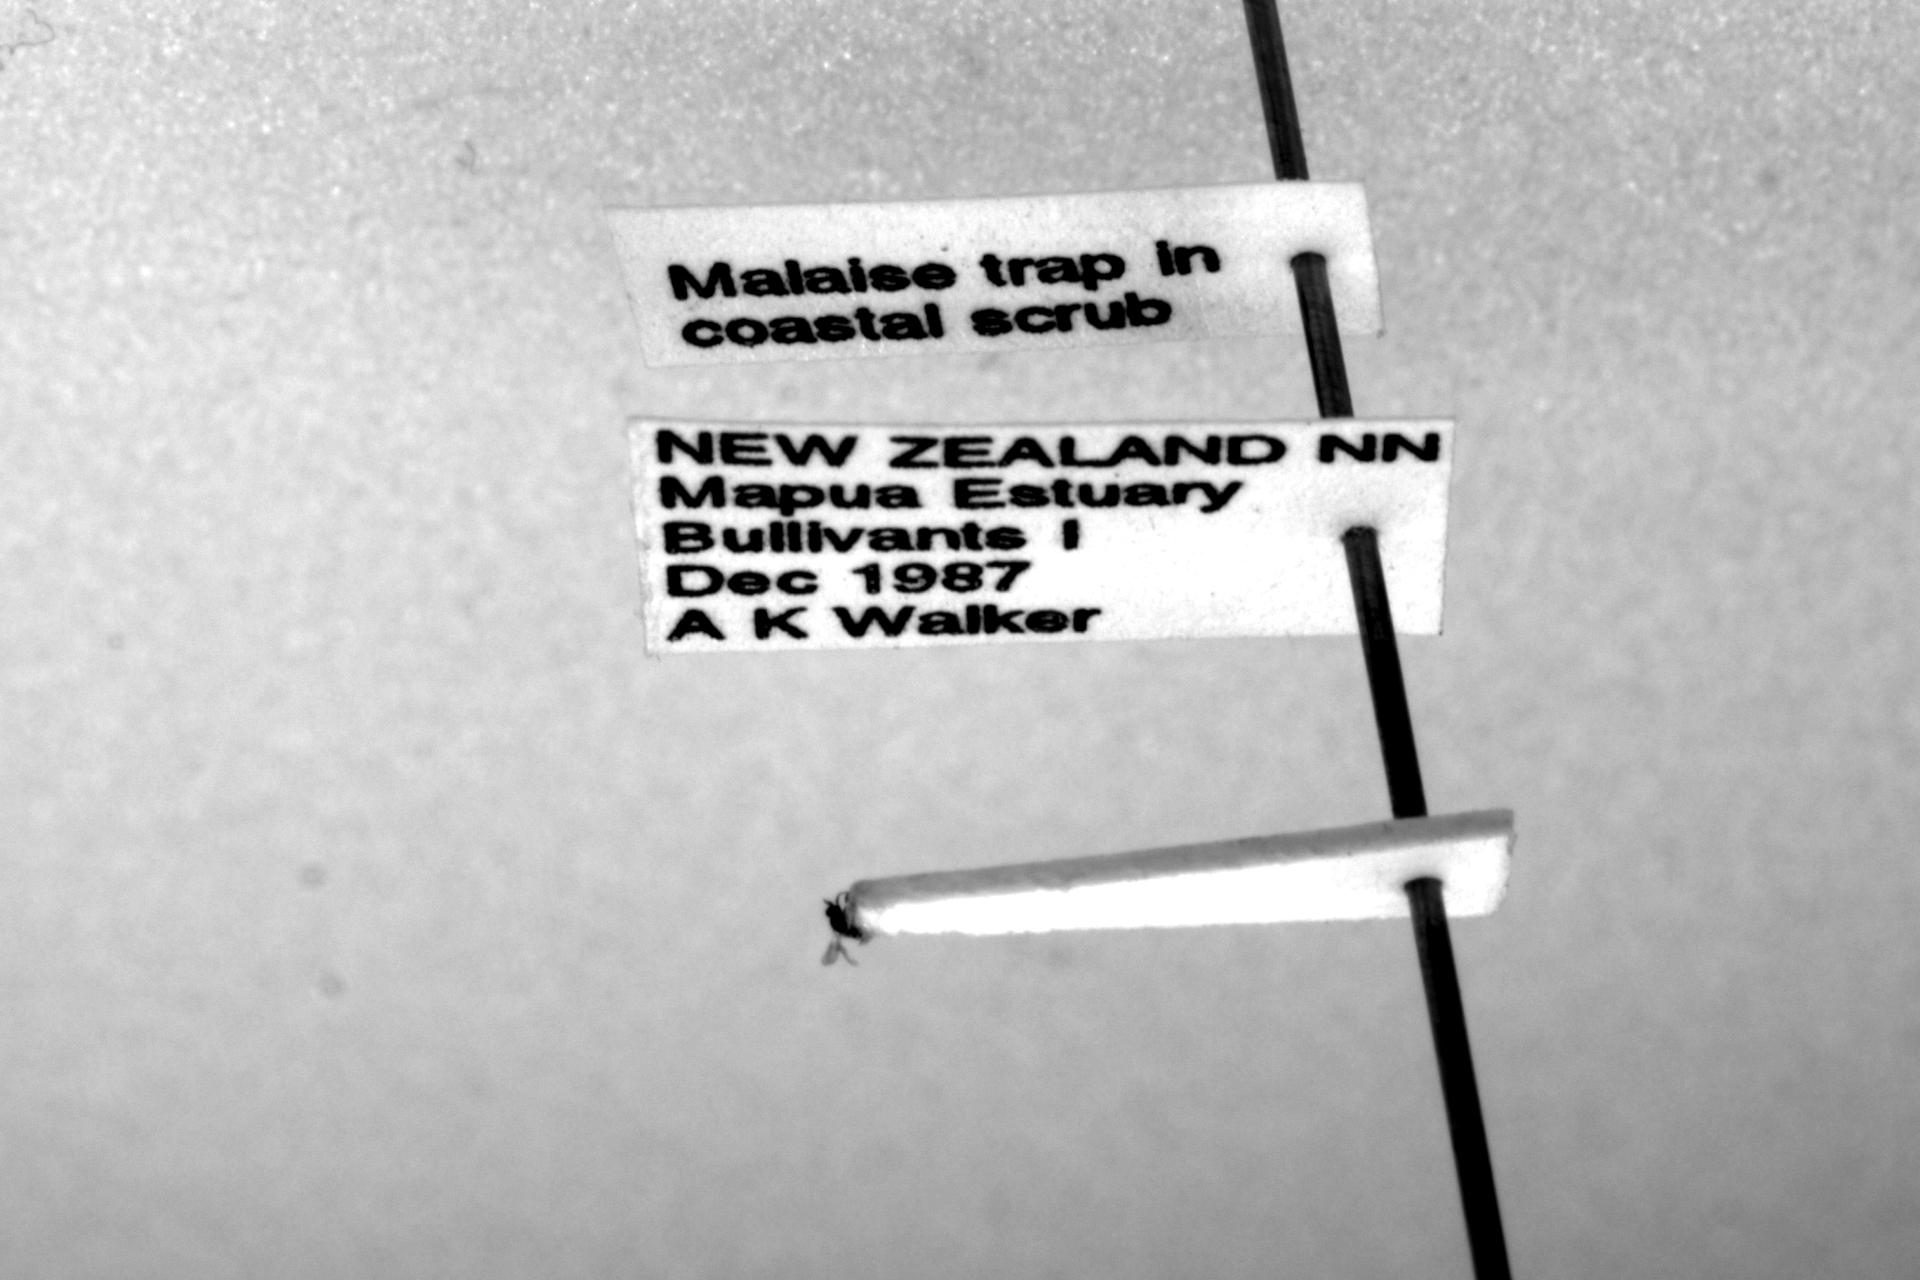typed_label: (630, 420, 1455, 656), (608, 180, 1384, 368)
